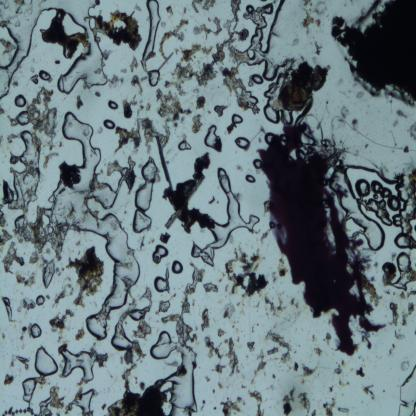Air bubble: (48, 109, 141, 339), (0, 1, 109, 100), (193, 165, 261, 265), (333, 164, 386, 254), (8, 128, 41, 212), (168, 340, 200, 416), (132, 157, 159, 236), (390, 171, 416, 251), (242, 2, 272, 67), (141, 0, 162, 70), (266, 75, 292, 127), (60, 346, 96, 381), (148, 325, 176, 362), (391, 250, 416, 290), (360, 196, 392, 227), (372, 179, 401, 209), (111, 320, 134, 356), (33, 345, 58, 377), (75, 388, 95, 414), (354, 177, 374, 200), (150, 243, 171, 264), (22, 376, 37, 404), (203, 126, 220, 148), (1, 297, 14, 324), (153, 274, 168, 294), (15, 109, 31, 127), (129, 308, 150, 320), (147, 68, 160, 87), (235, 135, 250, 151), (14, 93, 28, 109), (177, 138, 192, 152), (30, 322, 42, 338), (250, 71, 263, 85), (230, 113, 244, 126), (102, 118, 116, 130), (172, 260, 184, 274), (33, 294, 45, 308), (107, 100, 120, 112), (39, 68, 50, 82), (245, 172, 256, 184)
Background material: (332, 0, 416, 104), (160, 151, 218, 232), (160, 261, 205, 345), (198, 1, 242, 85), (195, 28, 249, 88), (278, 58, 330, 116), (104, 372, 172, 416), (13, 203, 68, 254), (224, 243, 273, 296), (42, 8, 88, 62), (65, 244, 104, 305), (95, 6, 144, 52), (32, 84, 61, 151), (223, 65, 260, 114), (152, 87, 193, 125), (141, 114, 172, 152), (163, 16, 189, 60), (32, 248, 61, 287), (114, 116, 142, 154), (397, 360, 415, 416), (161, 64, 197, 92), (264, 330, 293, 364), (300, 1, 326, 35), (58, 160, 86, 188), (177, 43, 211, 66), (38, 386, 64, 416), (262, 290, 287, 320), (192, 16, 223, 40), (2, 241, 23, 275), (224, 336, 240, 378), (201, 335, 224, 364), (49, 310, 73, 337), (404, 165, 416, 215), (219, 394, 245, 416), (247, 387, 266, 416), (252, 352, 268, 386), (54, 282, 73, 310), (120, 95, 138, 124), (297, 390, 317, 416), (380, 260, 398, 288), (121, 362, 136, 394), (280, 386, 297, 414), (88, 344, 107, 368), (0, 35, 18, 59), (1, 404, 37, 416), (9, 352, 30, 370), (401, 300, 415, 327), (388, 299, 401, 328), (301, 366, 321, 384), (191, 1, 214, 16), (334, 106, 349, 129), (15, 272, 37, 287), (42, 148, 59, 167), (108, 74, 124, 94), (131, 72, 142, 97), (277, 254, 288, 279), (157, 297, 173, 314), (361, 382, 376, 400), (334, 356, 348, 375), (200, 306, 210, 332), (19, 297, 35, 313), (221, 303, 236, 320), (323, 397, 337, 415), (192, 113, 204, 134), (0, 230, 12, 250), (203, 280, 220, 294), (213, 102, 228, 116), (336, 375, 351, 389), (158, 231, 173, 245), (353, 364, 366, 380), (19, 325, 29, 345), (290, 296, 302, 312), (0, 204, 8, 227), (392, 329, 407, 341), (128, 57, 139, 73), (313, 40, 323, 57), (3, 372, 16, 385), (137, 98, 151, 110), (196, 94, 208, 108), (225, 120, 236, 134), (164, 3, 174, 18), (312, 345, 324, 357), (74, 94, 83, 110), (398, 359, 409, 372), (395, 108, 409, 118), (75, 326, 85, 340), (349, 118, 359, 132), (337, 404, 349, 415), (215, 326, 226, 338), (29, 72, 38, 86), (246, 342, 256, 354), (214, 364, 226, 374), (409, 122, 416, 139), (207, 193, 216, 204), (323, 332, 332, 343), (216, 378, 224, 390), (292, 359, 299, 372), (402, 144, 410, 155), (139, 380, 146, 392), (92, 90, 102, 97), (200, 399, 206, 410), (0, 104, 6, 115), (203, 375, 211, 382), (12, 79, 17, 88)
Cotton: (154, 137, 173, 192)
Diatom: (265, 345, 280, 354)
Pen: (263, 121, 387, 354)
